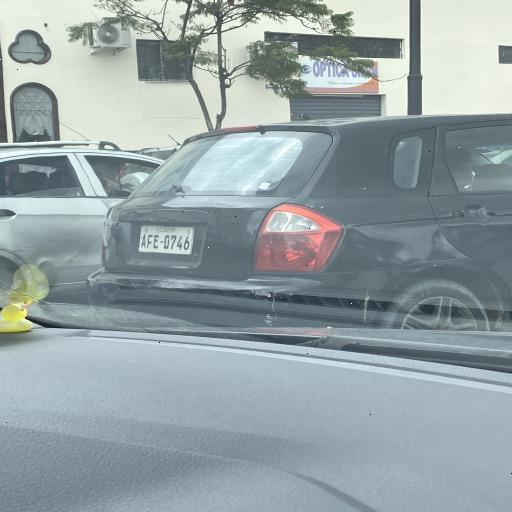license_plate: (146, 234, 153, 251), (176, 234, 183, 251), (152, 234, 160, 248), (170, 234, 177, 250), (140, 235, 147, 250), (184, 234, 190, 251), (164, 234, 170, 250)
